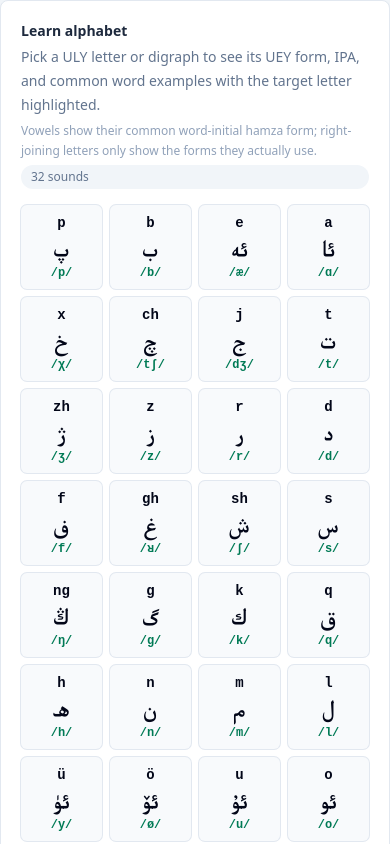
Test: AlphabetPanel › renders a word-initial vowel carrier and vowel as one highlighted segment
Click the button "a ئا /ɑ/".
click(328, 247)  # box [288,205,369,289]
(page scrolled)
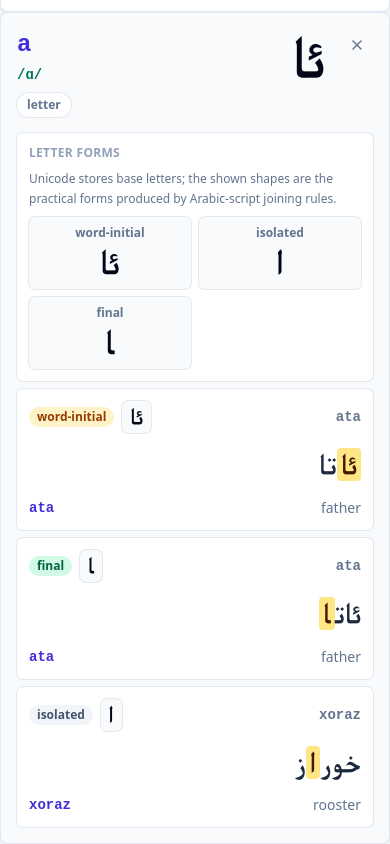
Check: the 2nd text titled "word-initial: ﺋﺎ" is shown, box [337,448,361,481]
